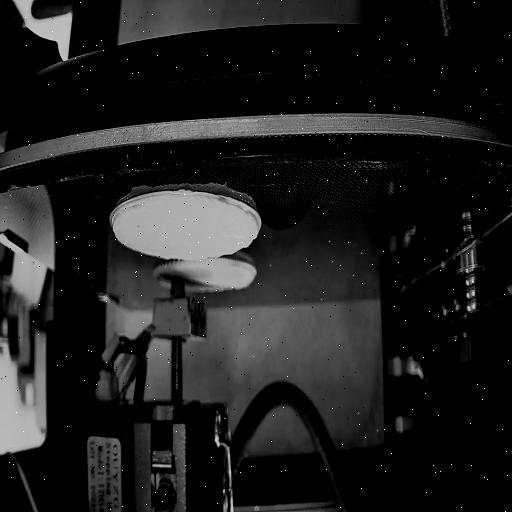over_extrusion: (111, 204, 141, 230), (246, 210, 262, 239)
